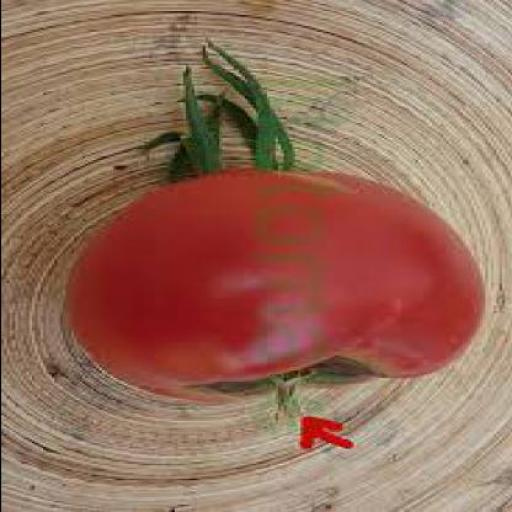biodegradable: (67, 166, 487, 419), (140, 38, 300, 180)
